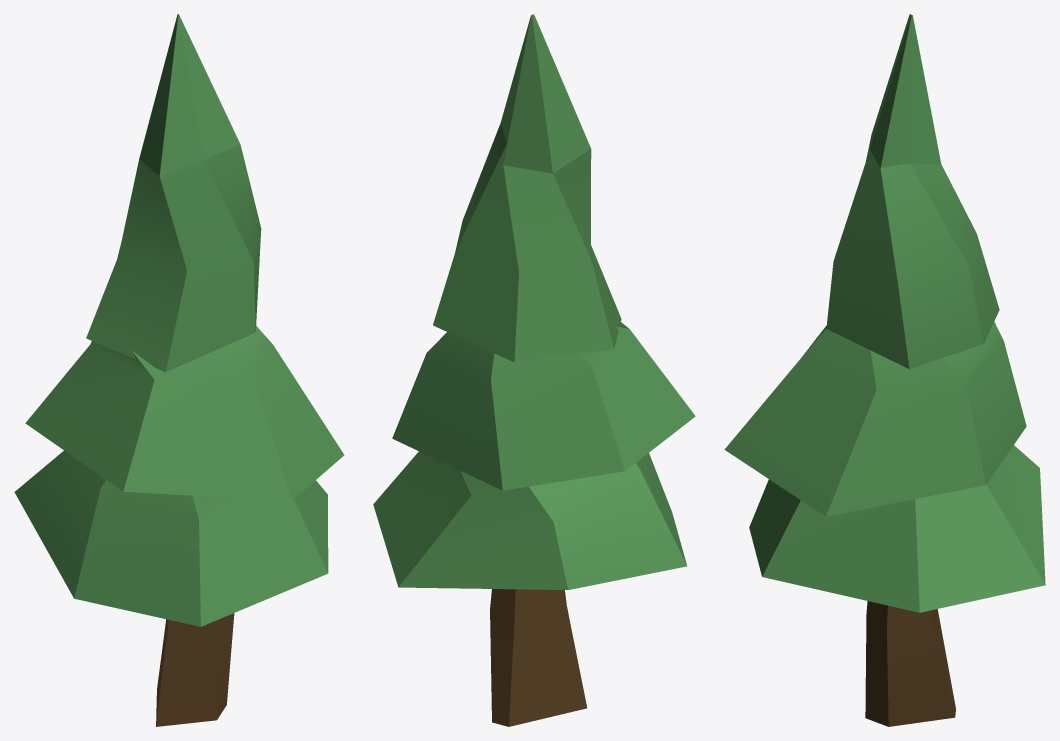
The model's file is green-tree.fbx.
The picture shows the model from 3 angles, left to right: view 1: azimuth 30°, elevation 25°; view 2: azimuth 150°, elevation 25°; view 3: azimuth 270°, elevation 25°; orthographic projection.
Parts seen in each view (by area): view 1: pasted__pCylinder4, pasted__pCylinder3, pasted__pCylinder5, pasted__pCylinder6; view 2: pasted__pCylinder3, pasted__pCylinder4, pasted__pCylinder5, pasted__pCylinder6; view 3: pasted__pCylinder4, pasted__pCylinder3, pasted__pCylinder5, pasted__pCylinder6.
Boxes of the visible parts, x1,y1,x2,y2 form: pasted__pCylinder4: [25, 326, 344, 500]; pasted__pCylinder3: [86, 14, 261, 372]; pasted__pCylinder5: [14, 450, 328, 626]; pasted__pCylinder6: [156, 613, 234, 726]; pasted__pCylinder3: [433, 14, 621, 362]; pasted__pCylinder4: [392, 322, 695, 490]; pasted__pCylinder5: [373, 451, 686, 589]; pasted__pCylinder6: [490, 589, 587, 726]; pasted__pCylinder4: [724, 321, 1026, 516]; pasted__pCylinder3: [826, 14, 999, 369]; pasted__pCylinder5: [749, 445, 1045, 612]; pasted__pCylinder6: [865, 601, 955, 726].
Bounding box in the file's own units: 4 × 9.38 × 3.92.
